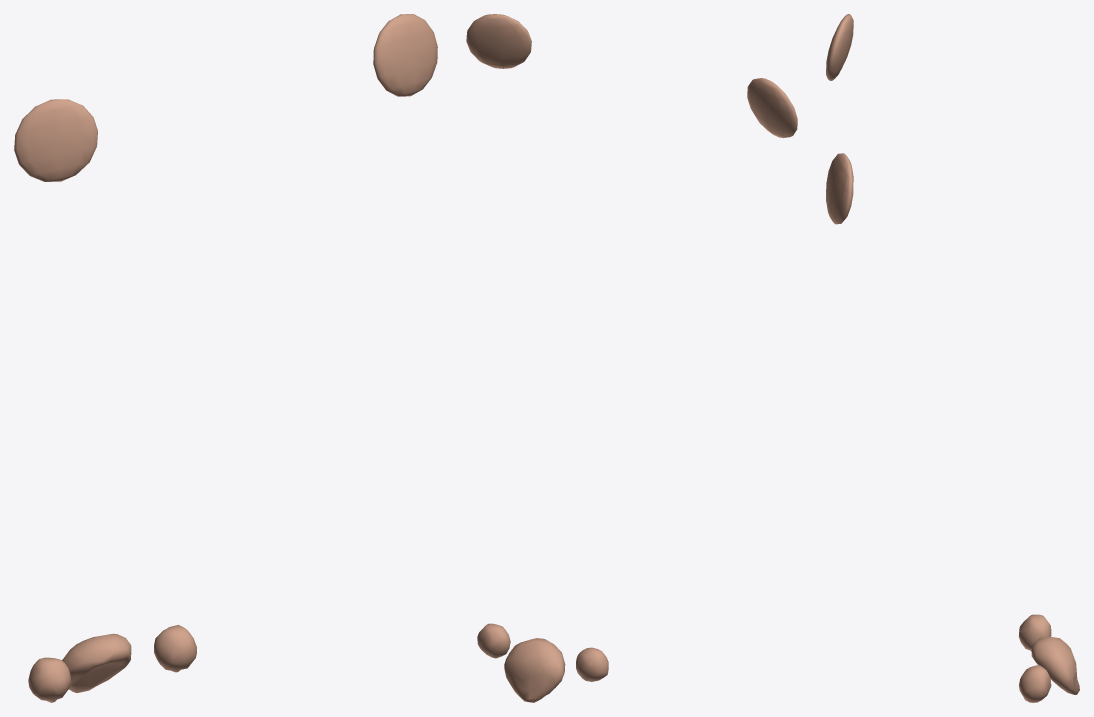
The model's file is pediatric_child_5y_female.reproductive.LOD1.glb.
3 renders of one model, left to right at view 1: azimuth 30°, elevation 25°; view 2: azimuth 150°, elevation 25°; view 3: azimuth 270°, elevation 25°, orthographic. The views are drawn at different scales.
Parts seen in each view (by area): view 1: PEDIATRIC.CHILD_5Y.FEMALE.REPRODUCTIVE.BREAST_ADIPOSE_TISSUE (×2), PEDIATRIC.CHILD_5Y.FEMALE.REPRODUCTIVE.UTERUS, PEDIATRIC.CHILD_5Y.FEMALE.REPRODUCTIVE.OVARY.L, PEDIATRIC.CHILD_5Y.FEMALE.REPRODUCTIVE.OVARY.R; view 2: PEDIATRIC.CHILD_5Y.FEMALE.REPRODUCTIVE.BREAST_ADIPOSE_TISSUE (×2), PEDIATRIC.CHILD_5Y.FEMALE.REPRODUCTIVE.UTERUS, PEDIATRIC.CHILD_5Y.FEMALE.REPRODUCTIVE.OVARY.R, PEDIATRIC.CHILD_5Y.FEMALE.REPRODUCTIVE.OVARY.L; view 3: PEDIATRIC.CHILD_5Y.FEMALE.REPRODUCTIVE.BREAST_ADIPOSE_TISSUE (×2), PEDIATRIC.CHILD_5Y.FEMALE.REPRODUCTIVE.UTERUS, PEDIATRIC.CHILD_5Y.FEMALE.REPRODUCTIVE.OVARY.L, PEDIATRIC.CHILD_5Y.FEMALE.REPRODUCTIVE.OVARY.R.
Boxes of the visible parts, left/top/right/bottom form: PEDIATRIC.CHILD_5Y.FEMALE.REPRODUCTIVE.BREAST_ADIPOSE_TISSUE (×2): left=14, top=14, right=437, bottom=181; PEDIATRIC.CHILD_5Y.FEMALE.REPRODUCTIVE.UTERUS: left=62, top=633, right=131, bottom=692; PEDIATRIC.CHILD_5Y.FEMALE.REPRODUCTIVE.OVARY.L: left=154, top=625, right=196, bottom=672; PEDIATRIC.CHILD_5Y.FEMALE.REPRODUCTIVE.OVARY.R: left=28, top=657, right=71, bottom=702; PEDIATRIC.CHILD_5Y.FEMALE.REPRODUCTIVE.BREAST_ADIPOSE_TISSUE (×2): left=466, top=14, right=797, bottom=138; PEDIATRIC.CHILD_5Y.FEMALE.REPRODUCTIVE.UTERUS: left=504, top=638, right=565, bottom=702; PEDIATRIC.CHILD_5Y.FEMALE.REPRODUCTIVE.OVARY.R: left=576, top=647, right=608, bottom=681; PEDIATRIC.CHILD_5Y.FEMALE.REPRODUCTIVE.OVARY.L: left=477, top=623, right=510, bottom=658; PEDIATRIC.CHILD_5Y.FEMALE.REPRODUCTIVE.BREAST_ADIPOSE_TISSUE (×2): left=826, top=14, right=853, bottom=224; PEDIATRIC.CHILD_5Y.FEMALE.REPRODUCTIVE.UTERUS: left=1031, top=636, right=1079, bottom=694; PEDIATRIC.CHILD_5Y.FEMALE.REPRODUCTIVE.OVARY.L: left=1019, top=665, right=1051, bottom=702; PEDIATRIC.CHILD_5Y.FEMALE.REPRODUCTIVE.OVARY.R: left=1018, top=614, right=1051, bottom=651.
Bounding box in the file's own units: 0.1449 × 0.2402 × 0.0909.
